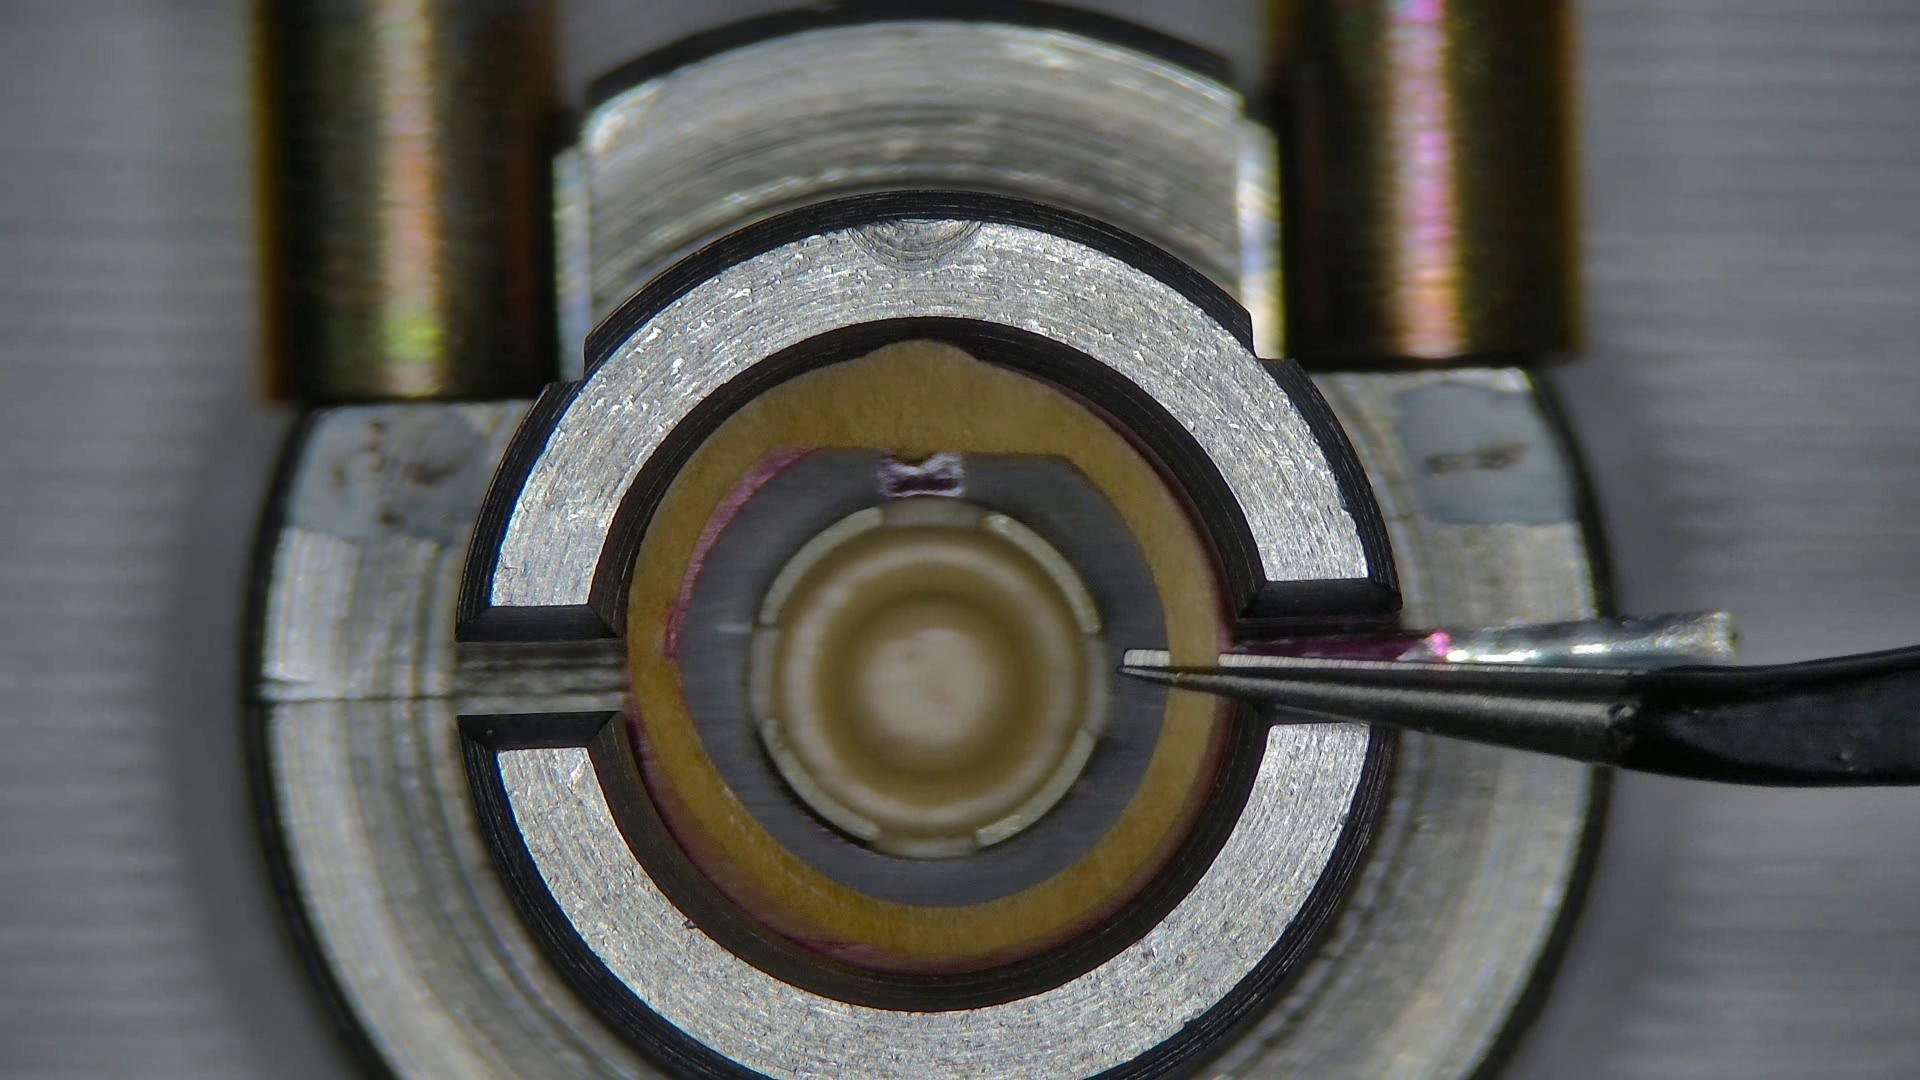GreyOring: (640, 746, 1091, 967), (673, 448, 800, 670)
YellowOring: (682, 452, 1164, 905)
redOring: (628, 342, 1221, 952)
